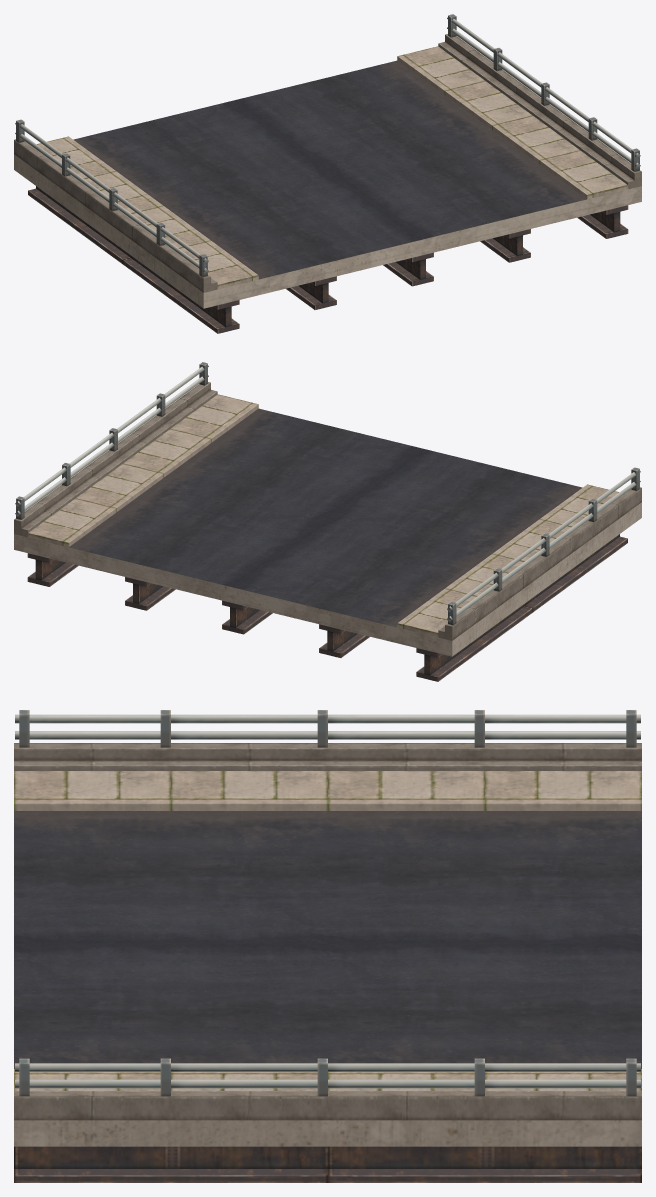
Rendered from TRF0110010.fbx.
3 views of the same model, one above another, from view 1: azimuth 30°, elevation 25°; view 2: azimuth 150°, elevation 25°; view 3: azimuth 270°, elevation 25° (orthographic). The views are drawn at different scales.
Visible parts, largest first — view 1: smTRF0110010; view 2: smTRF0110010; view 3: smTRF0110010.
Part boxes in pixels (left/top/right/bottom): smTRF0110010: left=14, top=14, right=641, bottom=333; smTRF0110010: left=14, top=362, right=641, bottom=681; smTRF0110010: left=14, top=710, right=641, bottom=1182.
Bounding box in the file's own units: 1600 × 275 × 1200.
Materials: 1 (1 with a texture image).
